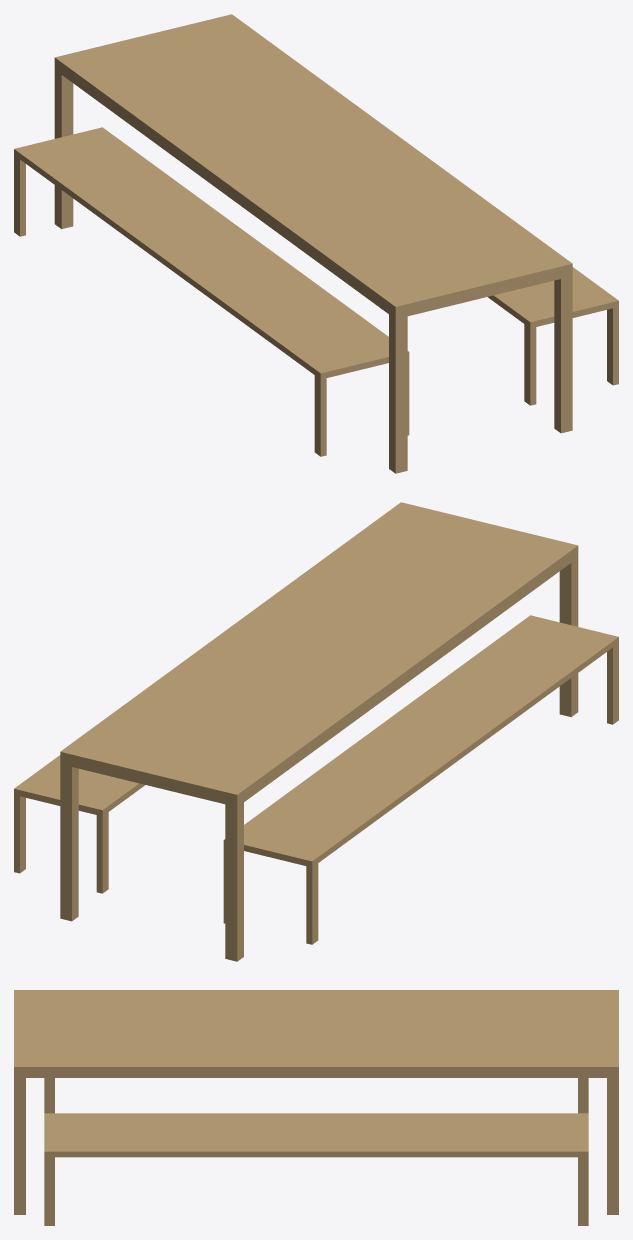
File: Mesa de refeitorio.fbx
The picture shows the model from 3 angles, top to bottom: view 1: azimuth 30°, elevation 25°; view 2: azimuth 150°, elevation 25°; view 3: azimuth 270°, elevation 25°; orthographic projection. The views are drawn at different scales.
Visible parts, largest first — view 1: Cube, banco1.002, banco1.001, Cube.002, Cube.001, Cube.003, pé.banco1.006, pé.banco1.002, pé.banco1.007, pé.banco1.001; view 2: Cube, banco1.002, banco1.001, Cube.003, Cube.004, Cube.002, pé.banco1.007, pé.banco1.003, pé.banco1.006, pé.banco1.004; view 3: Cube, banco1.001, Cube.001, Cube.004, pé.banco1.001, pé.banco1.004, pé.banco1.005, pé.banco1.008.
Boxes of the visible parts, left/top/right/bottom form: Cube: left=54, top=14, right=572, bottom=319; banco1.002: left=14, top=127, right=409, bottom=379; banco1.001: left=488, top=267, right=618, bottom=328; Cube.002: left=389, top=314, right=407, bottom=473; Cube.001: left=554, top=276, right=572, bottom=433; Cube.003: left=54, top=70, right=73, bottom=229; pé.banco1.006: left=314, top=375, right=326, bottom=456; pé.banco1.002: left=524, top=324, right=536, bottom=405; pé.banco1.007: left=14, top=155, right=25, bottom=236; pé.banco1.001: left=607, top=307, right=618, bottom=385; Cube: left=60, top=502, right=578, bottom=807; banco1.002: left=223, top=615, right=618, bottom=867; banco1.001: left=14, top=755, right=144, bottom=816; Cube.003: left=225, top=802, right=243, bottom=961; Cube.004: left=60, top=764, right=78, bottom=921; Cube.002: left=559, top=558, right=578, bottom=717; pé.banco1.007: left=306, top=863, right=318, bottom=944; pé.banco1.003: left=96, top=812, right=108, bottom=893; pé.banco1.006: left=607, top=643, right=618, bottom=724; pé.banco1.004: left=14, top=795, right=25, bottom=873; Cube: left=14, top=990, right=618, bottom=1077; banco1.001: left=44, top=1113, right=588, bottom=1157; Cube.001: left=14, top=1078, right=25, bottom=1214; Cube.004: left=607, top=1078, right=618, bottom=1214; pé.banco1.001: left=44, top=1157, right=54, bottom=1225; pé.banco1.004: left=578, top=1157, right=588, bottom=1225; pé.banco1.005: left=44, top=1078, right=54, bottom=1113; pé.banco1.008: left=578, top=1078, right=588, bottom=1113.
Size of the model in its own units: 101 by 54 by 200.
